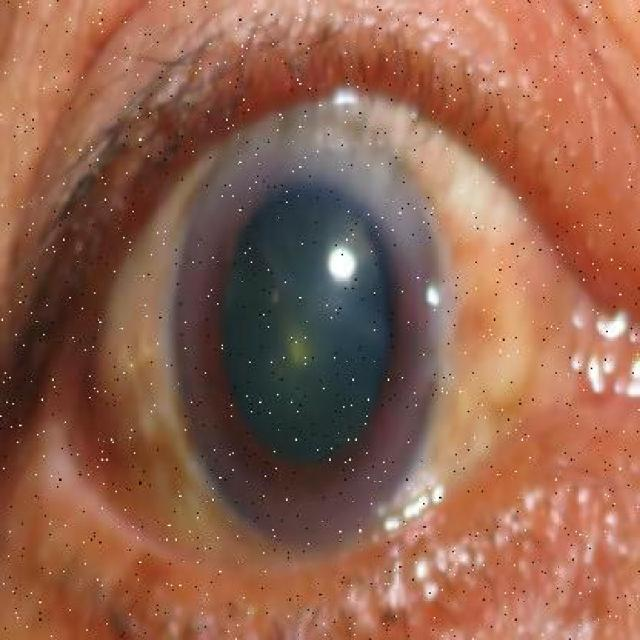Cataract: (161, 92, 454, 584)
